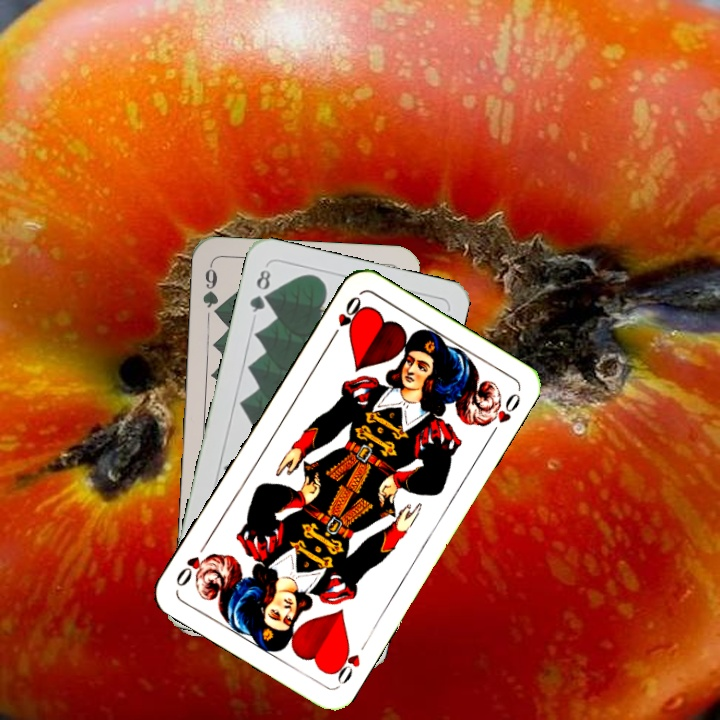G8: (245, 265, 274, 315)
G9: (198, 261, 223, 321)
HO: (326, 292, 365, 344), (327, 641, 363, 687)
